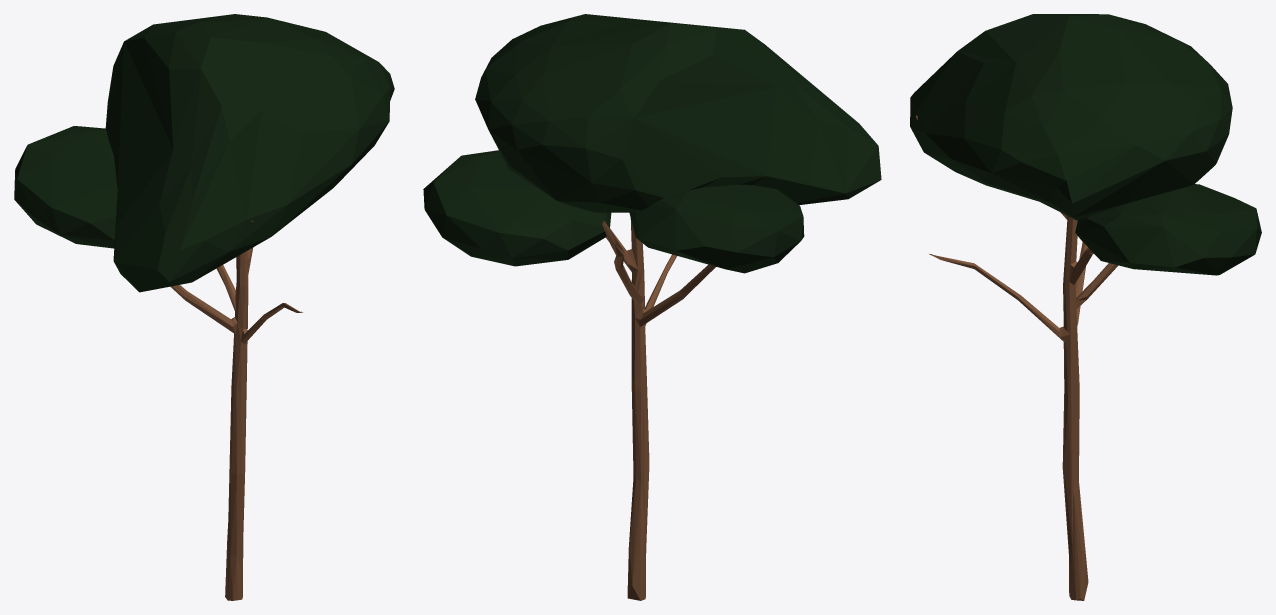
Rendered from SM_tree_medium_01.fbx.
3 views of the same model, side by side, from view 1: azimuth 30°, elevation 25°; view 2: azimuth 150°, elevation 25°; view 3: azimuth 270°, elevation 25° (orthographic).
Visible parts, largest first — view 1: Object013; view 2: Object013; view 3: Object013.
Part boxes in pixels (x1,y1,x2,y2): Object013: (14, 14, 394, 600); Object013: (423, 14, 881, 600); Object013: (910, 14, 1261, 600).
Size of the model in its own units: 158 by 144 by 256.
